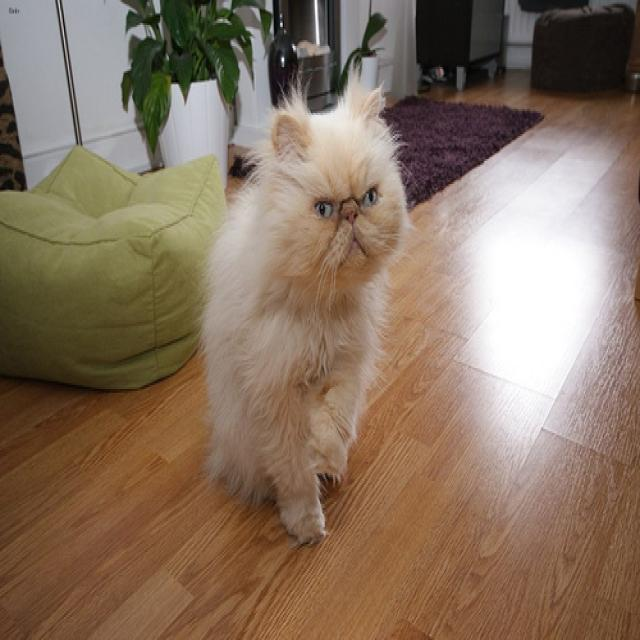Persian: (270, 82, 399, 276)
